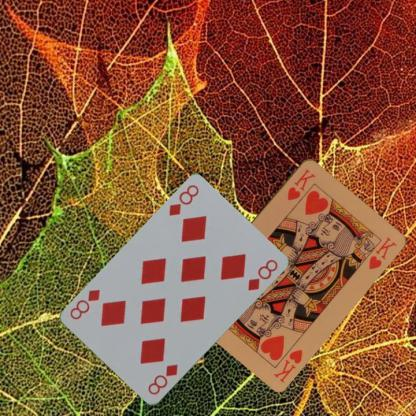8d: (166, 182, 200, 218), (145, 362, 179, 396)
Kh: (271, 346, 304, 384), (284, 166, 317, 202)
